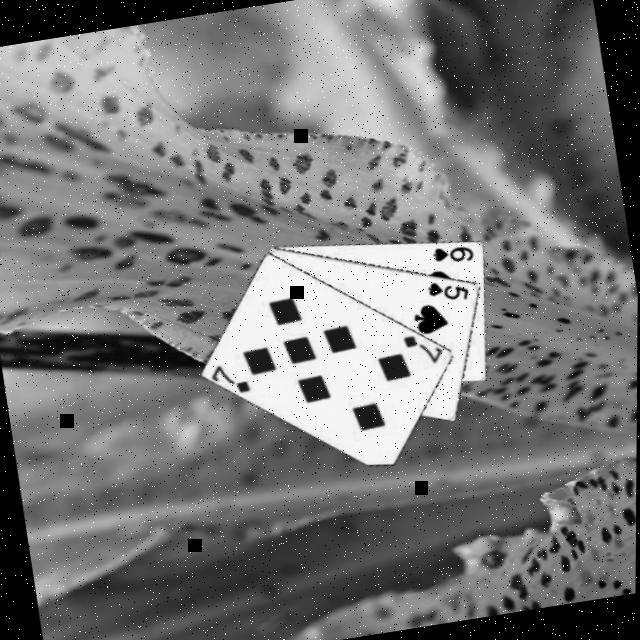5S: (423, 275, 473, 310)
6S: (427, 241, 476, 272)
7D: (398, 329, 445, 372), (206, 360, 253, 403)
